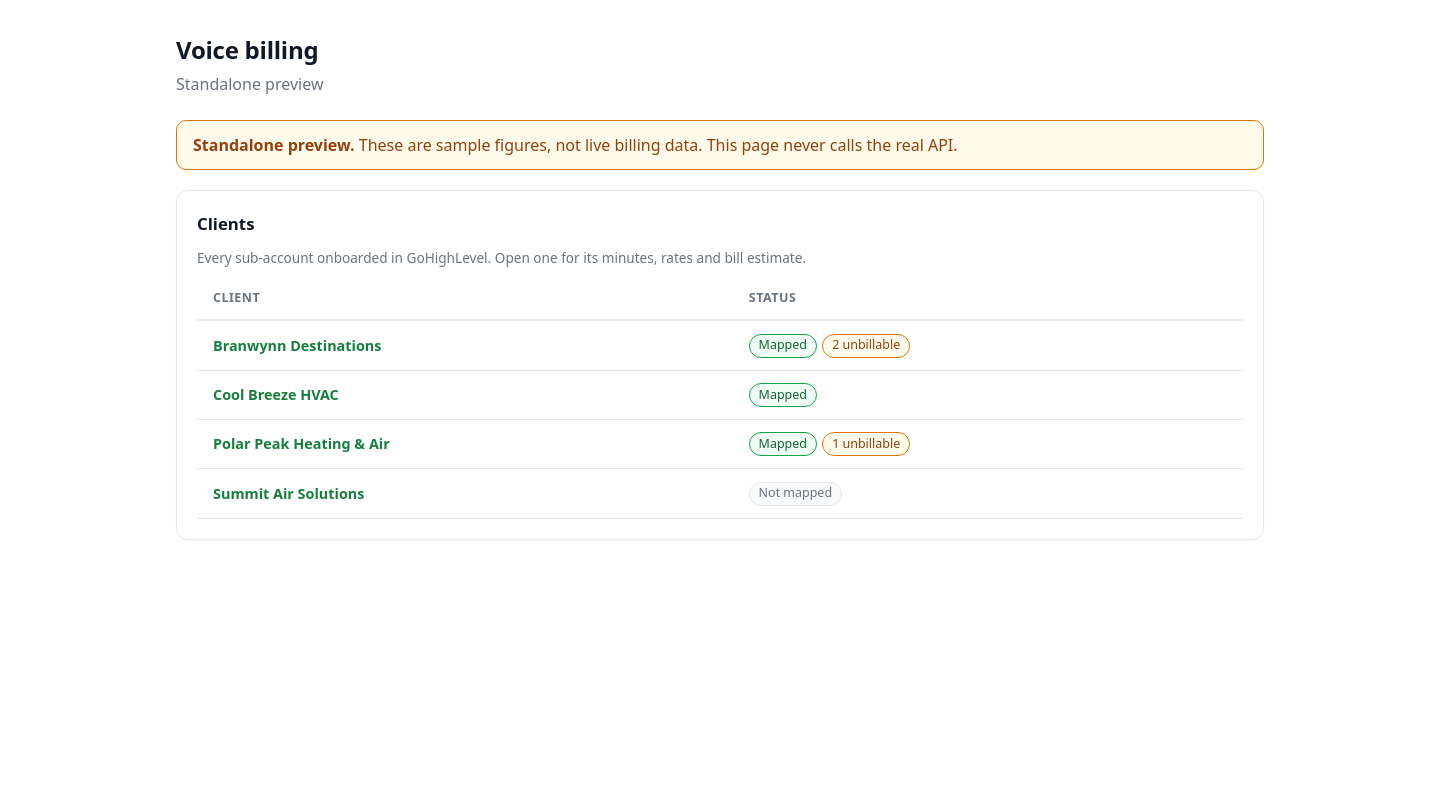
Test: AdminPreviewPage › picks a sample Twilio subaccount in the preview, and it sticks on reopen
Click the button "Polar Peak Heating & Air". click: (301, 444)
box: [213,433,390,455]
(page scrolled)
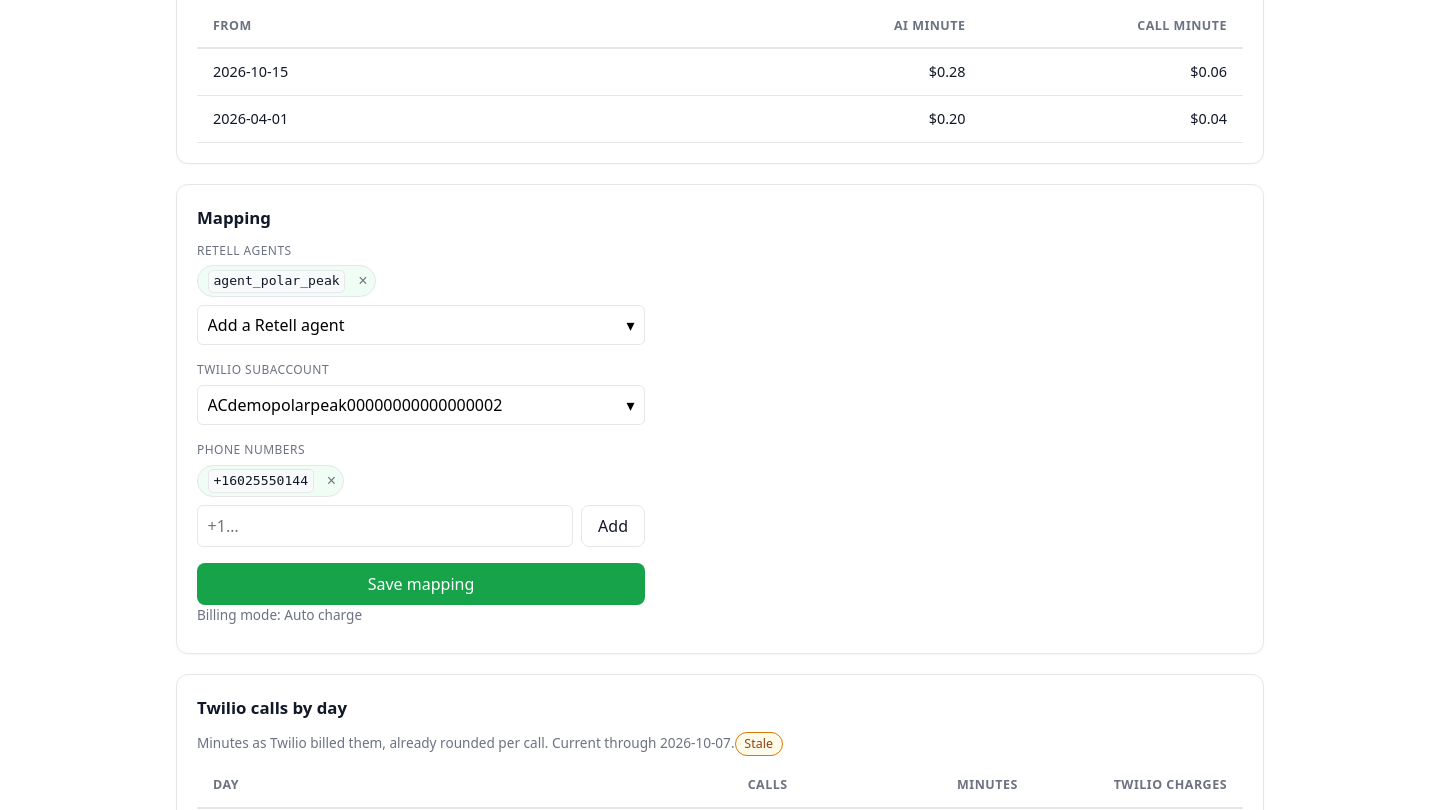
# The SID Polar Peak is on today. The picker offers the sample subaccounts, not Twilio's.
Click the button "ACdemopolarpeak00000000000000002 ▾". click: (421, 405)
box: [197,385,645,426]
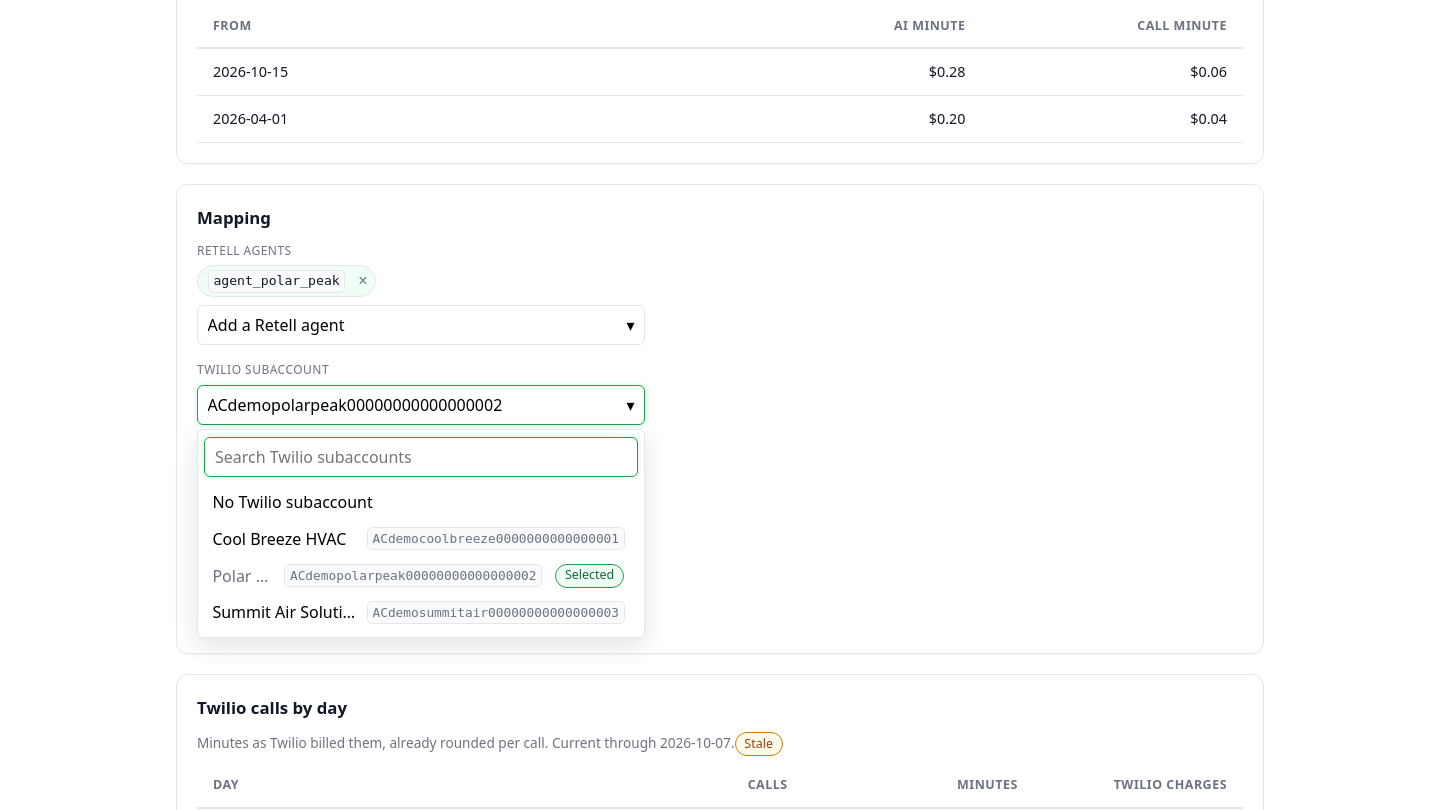
Click the button "Cool Breeze HVAC ACdemocoolbreeze0000000000000001". click: (421, 539)
box: [204,520,638,557]
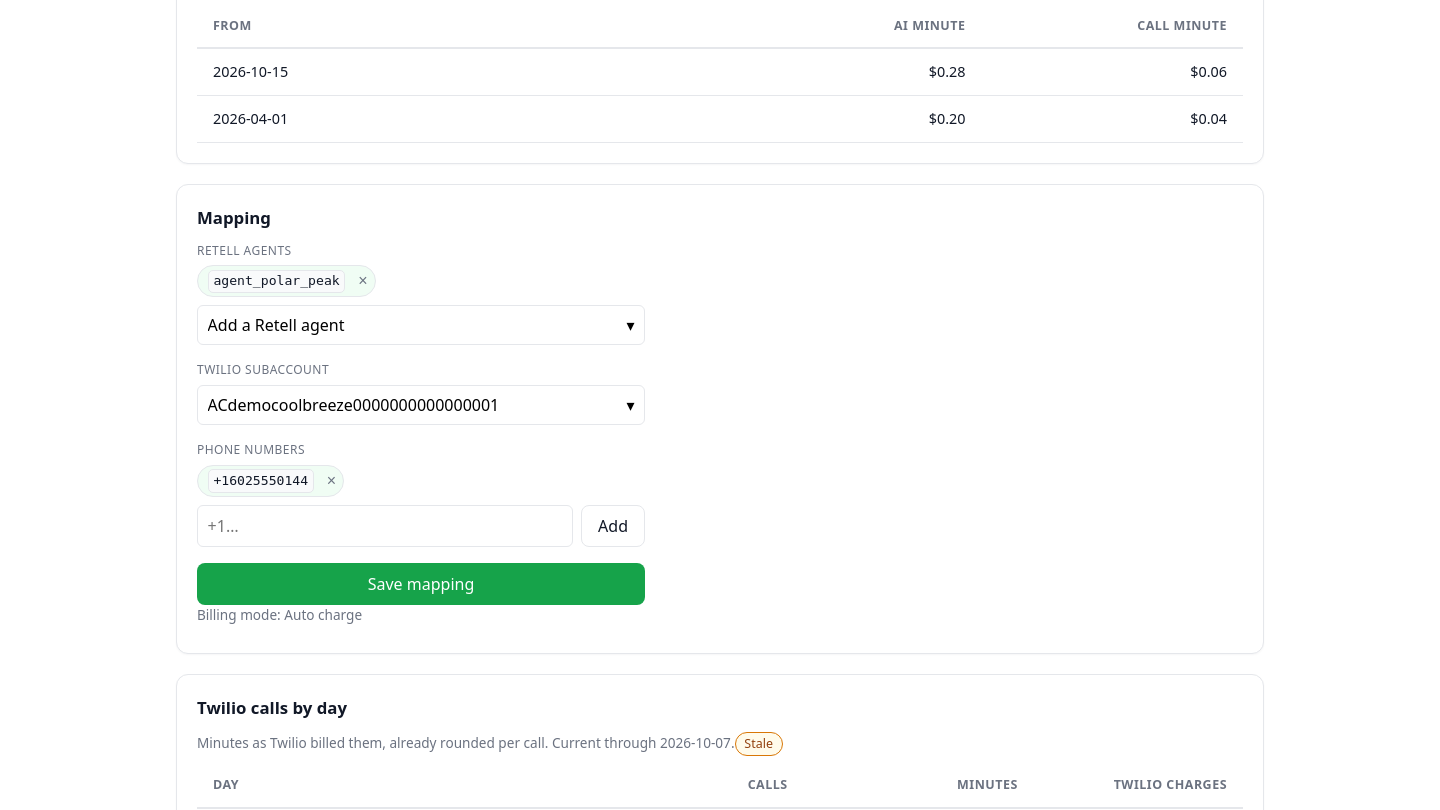
Click the button "Save mapping". click: (421, 584)
box: [197,563,645,605]
(page scrolled)
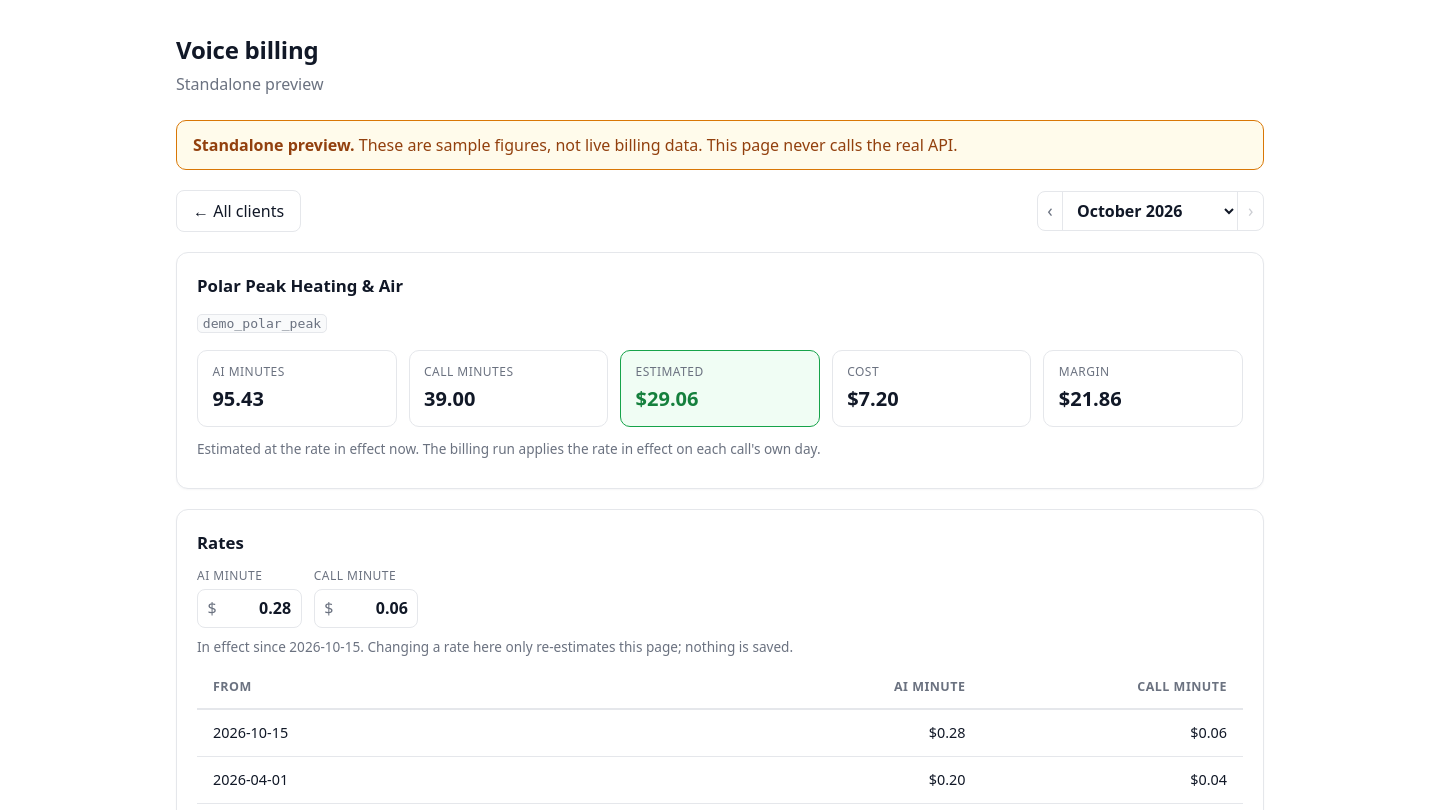
Click the button "← All clients". click: (239, 211)
box: [176,190,301,232]
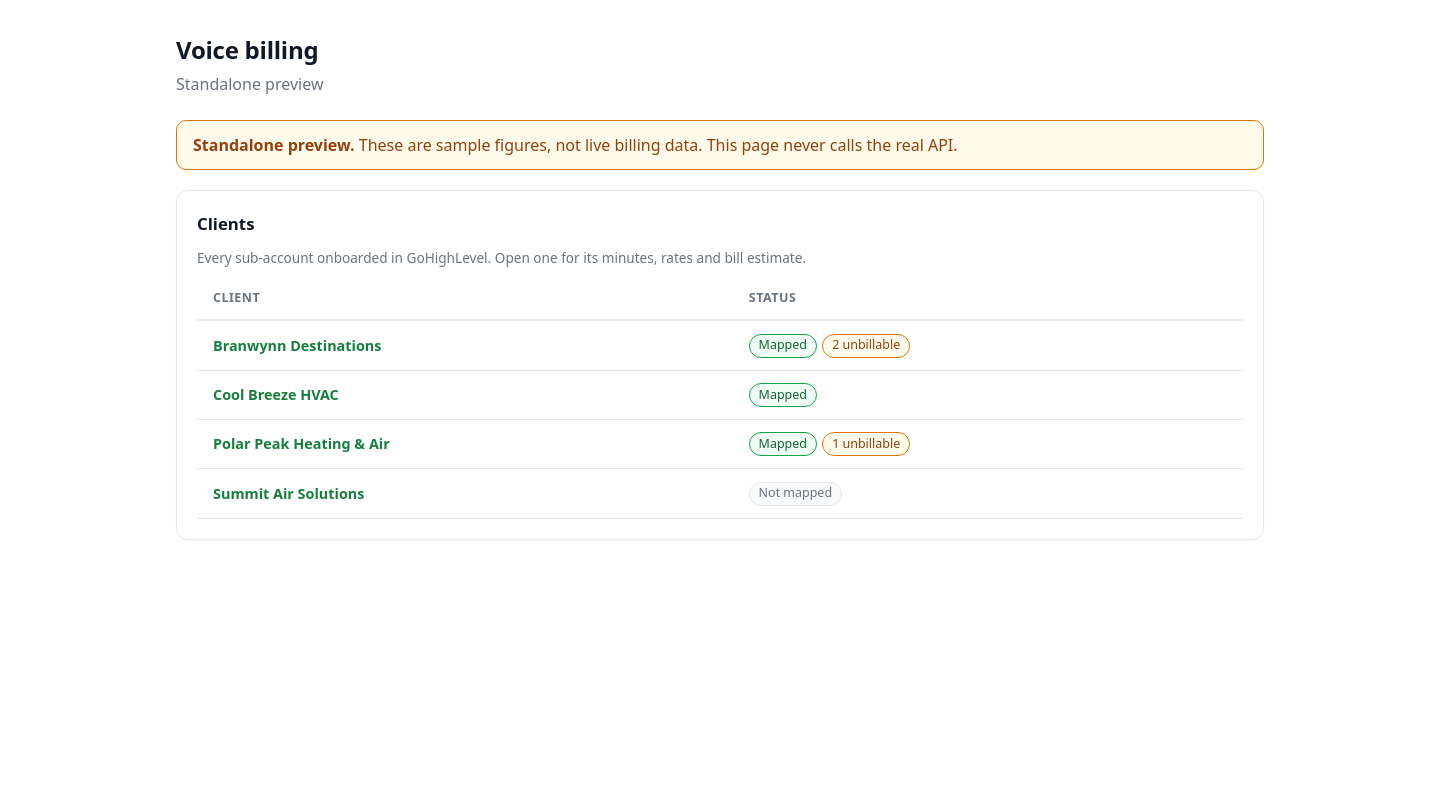
Click the button "Polar Peak Heating & Air". click: (301, 444)
box: [213,433,390,455]
(page scrolled)
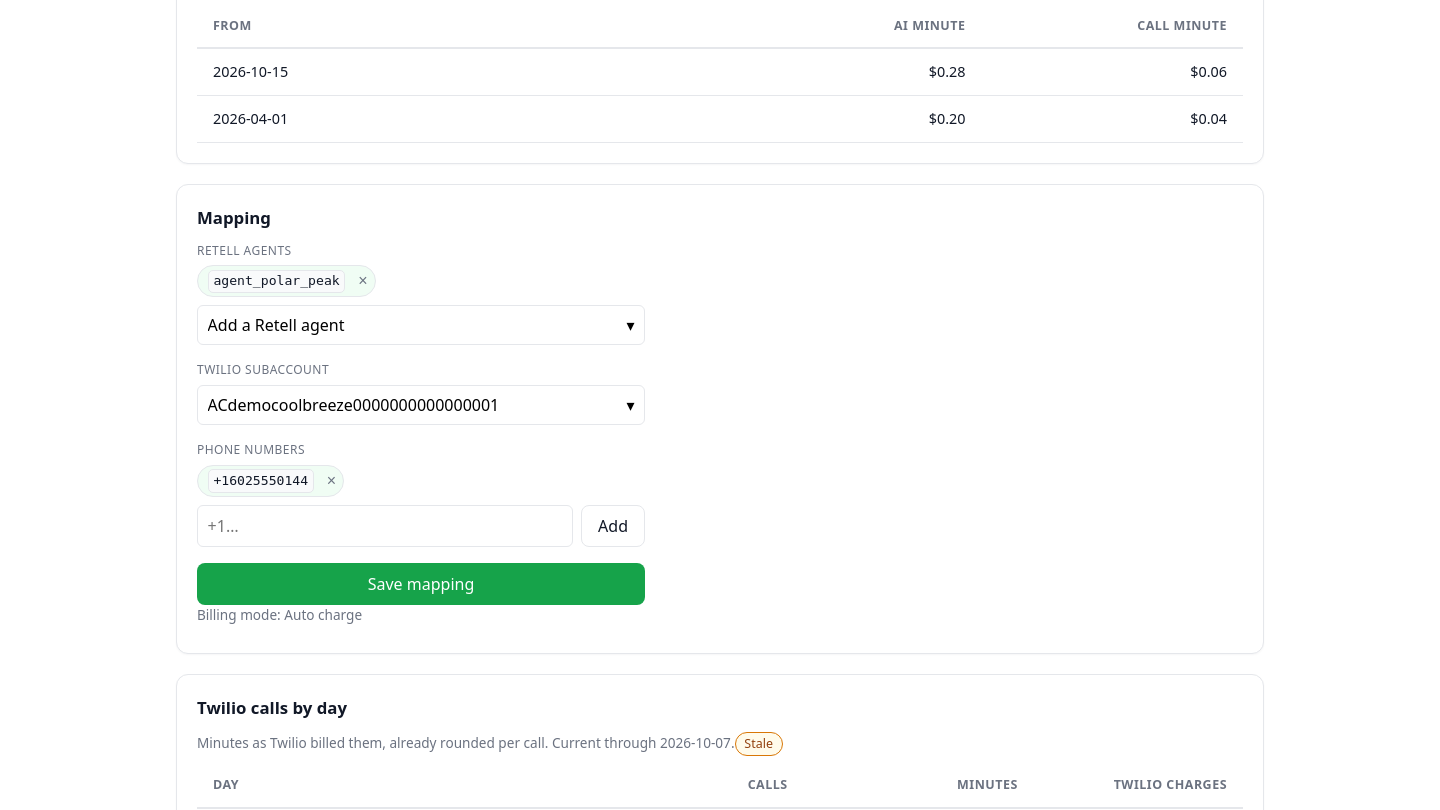
Expected: the button "ACdemocoolbreeze0000000000000001 ▾" is shown, [197,385,645,426]
